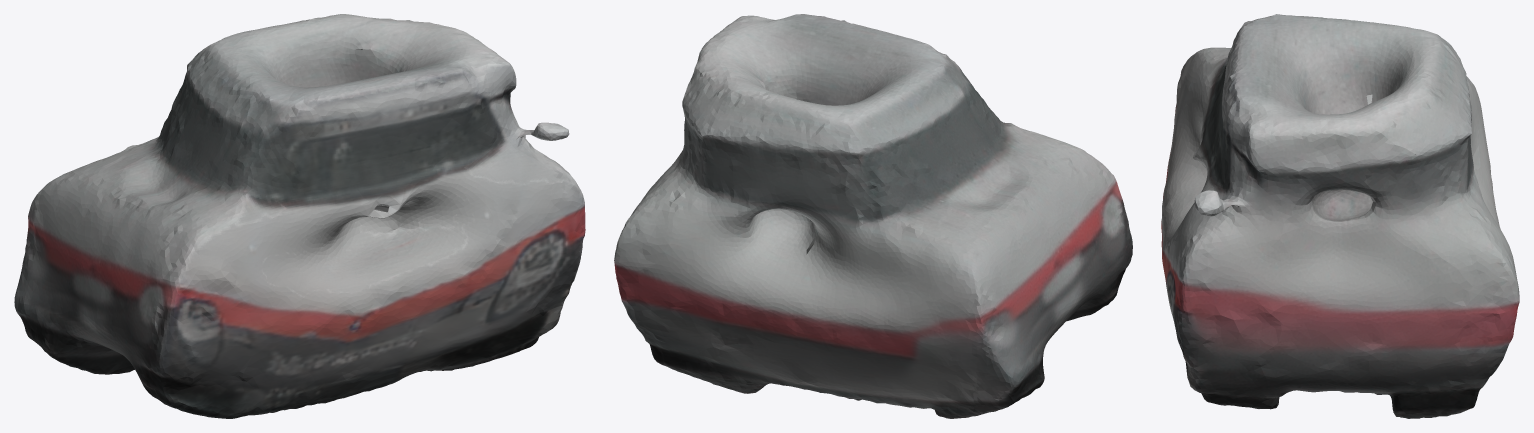
File: IMG_SEG_08.glb
3 renders of one model, left to right at view 1: azimuth 30°, elevation 25°; view 2: azimuth 150°, elevation 25°; view 3: azimuth 270°, elevation 25°, orthographic. The views are drawn at different scales.
Bounding box in the file's own units: 0.9486 × 0.6961 × 0.6773.
Materials: 1 (1 with a texture image).
